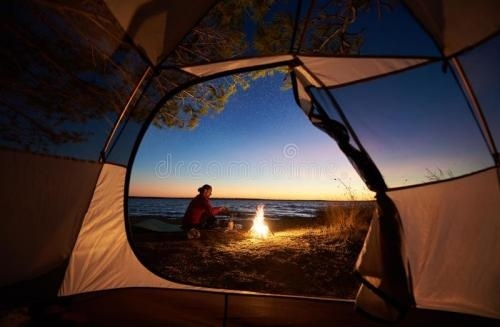fire: (249, 203, 272, 238)
